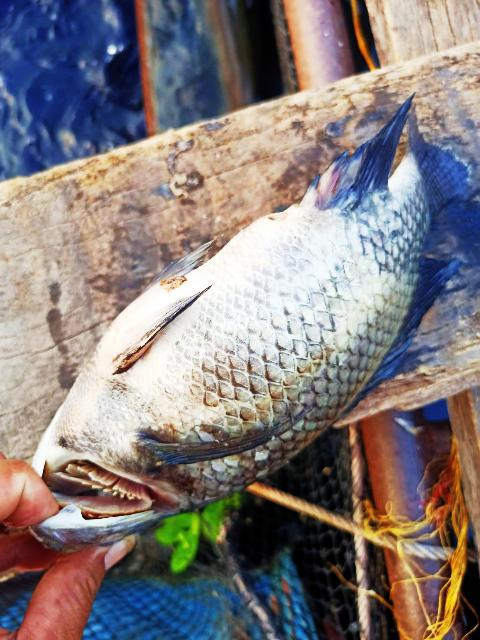Flavobacterium -Bacterial Gill Disease-: (31, 95, 469, 549), (31, 96, 468, 544), (31, 97, 467, 545)
